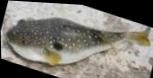fish: (6, 17, 150, 64)
